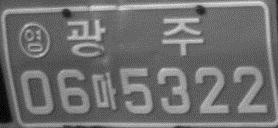0: (19, 70, 54, 116)
2: (194, 66, 230, 115), (232, 65, 268, 114)
3: (156, 67, 191, 115)
5: (120, 67, 152, 114)
6: (56, 69, 90, 115)
광주_D: (65, 17, 204, 58)
마: (91, 71, 118, 111)
영: (18, 21, 51, 60)
